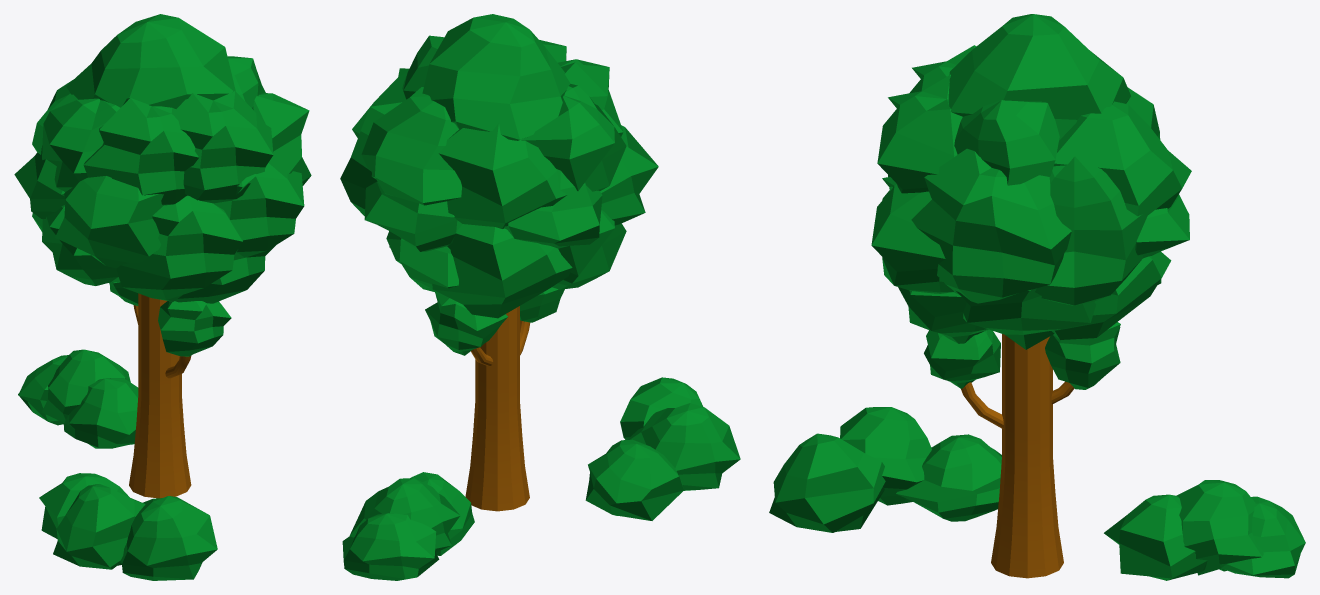
The model's file is boom,struiken kleur infected.fbx.
3 views of the same model, side by side, from view 1: azimuth 30°, elevation 25°; view 2: azimuth 150°, elevation 25°; view 3: azimuth 270°, elevation 25° (orthographic). The views are drawn at different scales.
Visible parts, largest first — view 1: boom, struikhoek, struikrecht; view 2: boom, struikhoek, struikrecht; view 3: boom, struikhoek, struikrecht.
Part boxes in pixels (box(x1,y1,x2,y2)): boom: box(14, 14, 311, 498); struikhoek: box(39, 473, 217, 580); struikrecht: box(18, 349, 138, 448); boom: box(340, 14, 658, 511); struikhoek: box(585, 377, 740, 520); struikrecht: box(342, 472, 474, 580); boom: box(871, 14, 1191, 578); struikhoek: box(769, 407, 1001, 532); struikrecht: box(1104, 480, 1305, 580).
Bounding box in the file's own units: 2.85 × 4.34 × 3.83.
